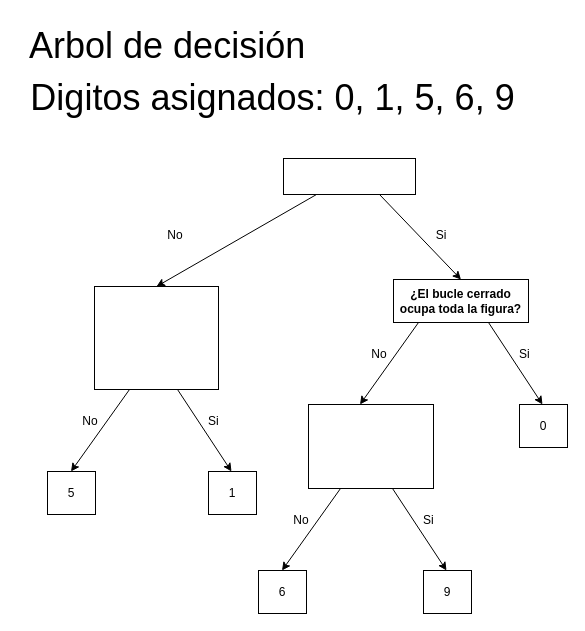
Image size: 585x631. Some labels were removed from this diagram. Each missing label, with the centre of its shape:
¿El bucle cerrado es pequeño y se encuentra en la parte superior?: pixel 371 446
¿El dígito tiene un bucle cerrado?: pixel 349 176
¿El dígito tiene una línea recta vertical como principal característica?: pixel 156 338
